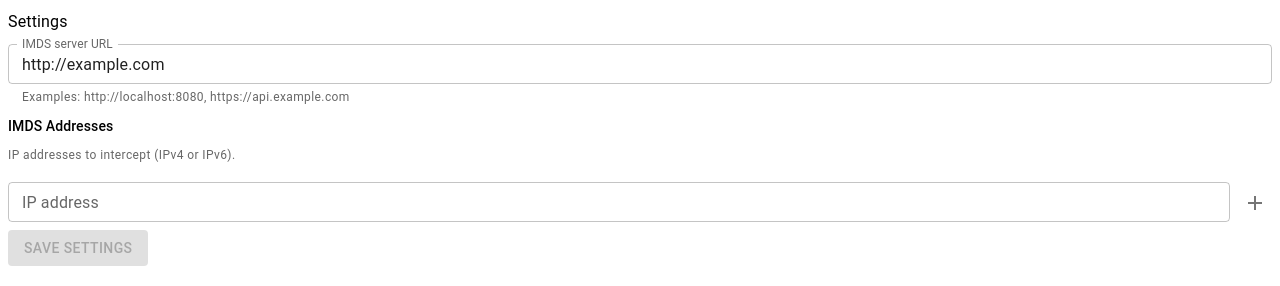
Test case: SettingsForm › validates URL format before saving
Replace the text in the field labelled "IMDS server URL" with "not a url" at (640, 64), box [8,44,1272,84]
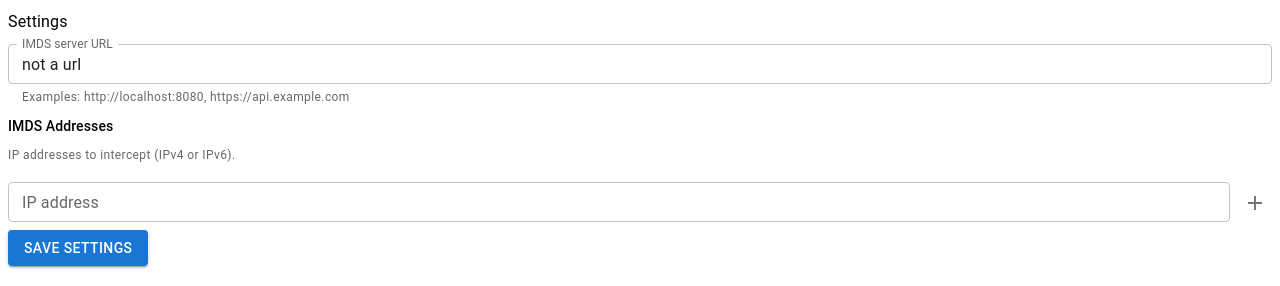
Click the button "Save Settings".
click(78, 248)  # box [8,230,148,266]
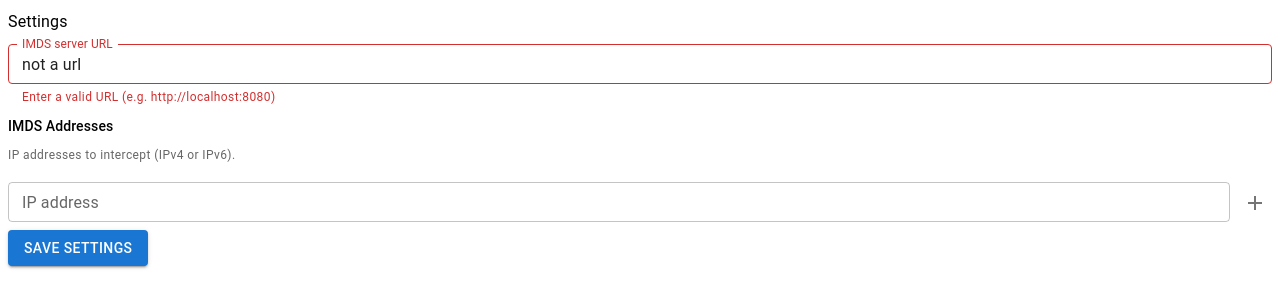
Result: the text "Enter a valid URL (e.g. http://localhost:8080)" is shown at [22,90,276,104]
